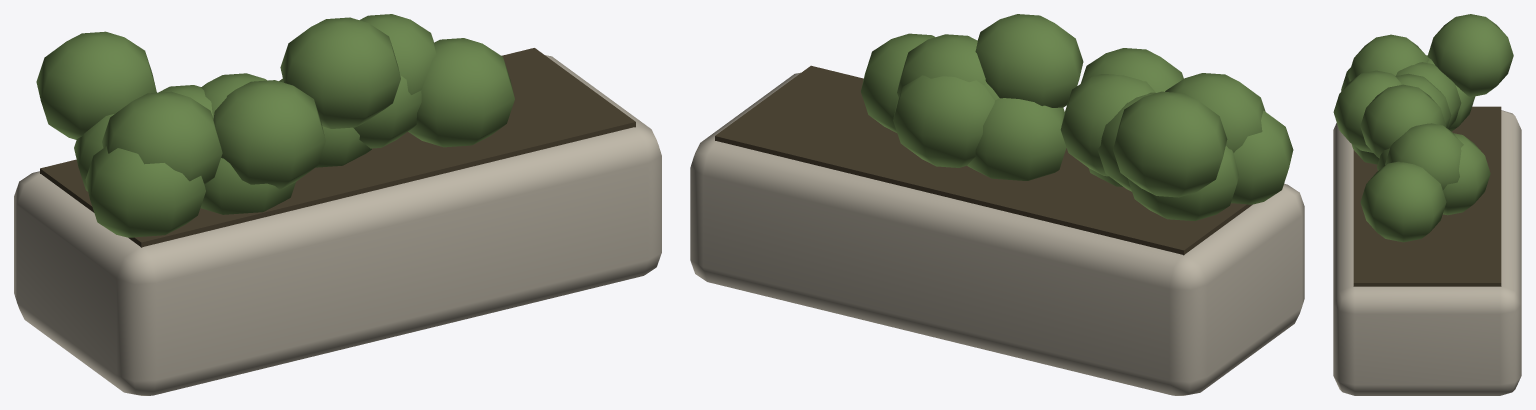
File: planter.glb
3 views of the same model, side by side, from view 1: azimuth 30°, elevation 25°; view 2: azimuth 150°, elevation 25°; view 3: azimuth 270°, elevation 25° (orthographic). The views are drawn at different scales.
Visible parts, largest first — view 1: NC mineral concrete.005, NC foliage.004, NC earth; view 2: NC mineral concrete.005, NC foliage.004, NC earth; view 3: NC mineral concrete.005, NC foliage.004, NC earth.
Part boxes in pixels (x1,y1,x2,y2): NC mineral concrete.005: (14, 55, 661, 395); NC foliage.004: (36, 14, 514, 237); NC earth: (40, 48, 635, 247); NC mineral concrete.005: (690, 72, 1304, 395); NC foliage.004: (861, 14, 1293, 221); NC earth: (715, 65, 1252, 255); NC mineral concrete.005: (1333, 110, 1521, 395); NC foliage.004: (1333, 14, 1513, 242); NC earth: (1353, 106, 1501, 286).
Size of the model in its own units: 3.44 by 1.75 by 1.4.
